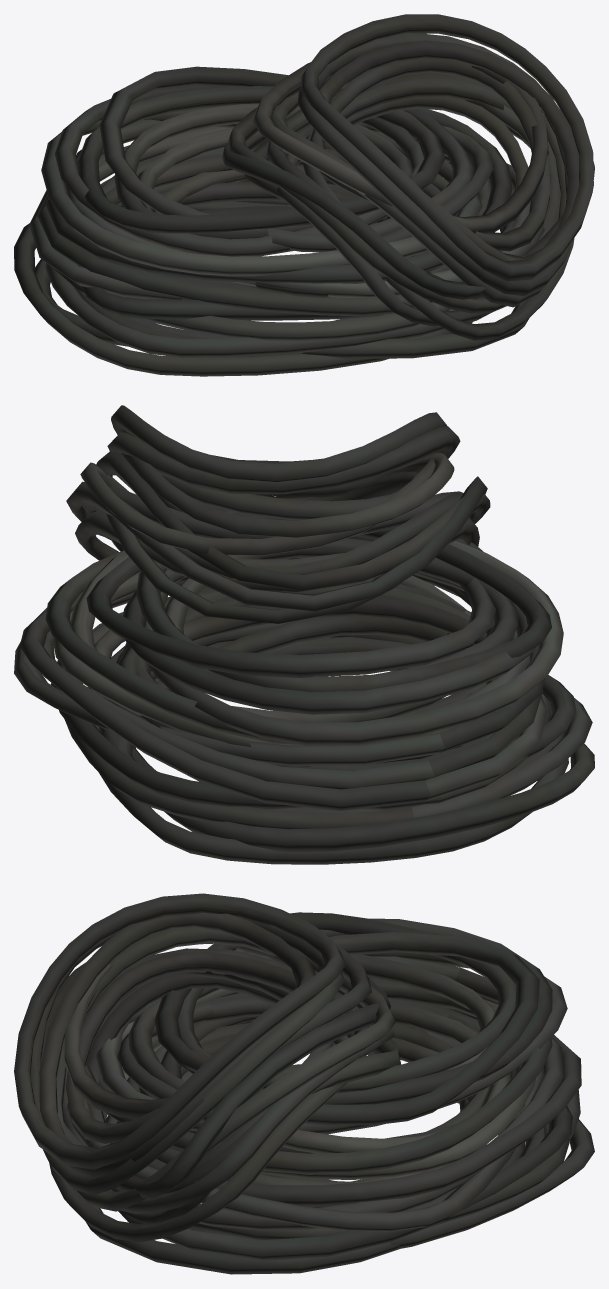
Rendered from prop_small_013.glb.
3 views of the same model, one above another, from view 1: azimuth 30°, elevation 25°; view 2: azimuth 150°, elevation 25°; view 3: azimuth 270°, elevation 25° (orthographic). The views are drawn at different scales.
Parts seen in each view (by area): view 1: Building_12_037; view 2: Building_12_037; view 3: Building_12_037.
Boxes of the visible parts, <box> form: Building_12_037: <box>14,14,594,376</box>; Building_12_037: <box>14,405,594,864</box>; Building_12_037: <box>14,893,594,1274</box>.
Size of the model in its own units: 0.8 by 0.3942 by 0.761.
Materials: 1 (1 with a texture image).
